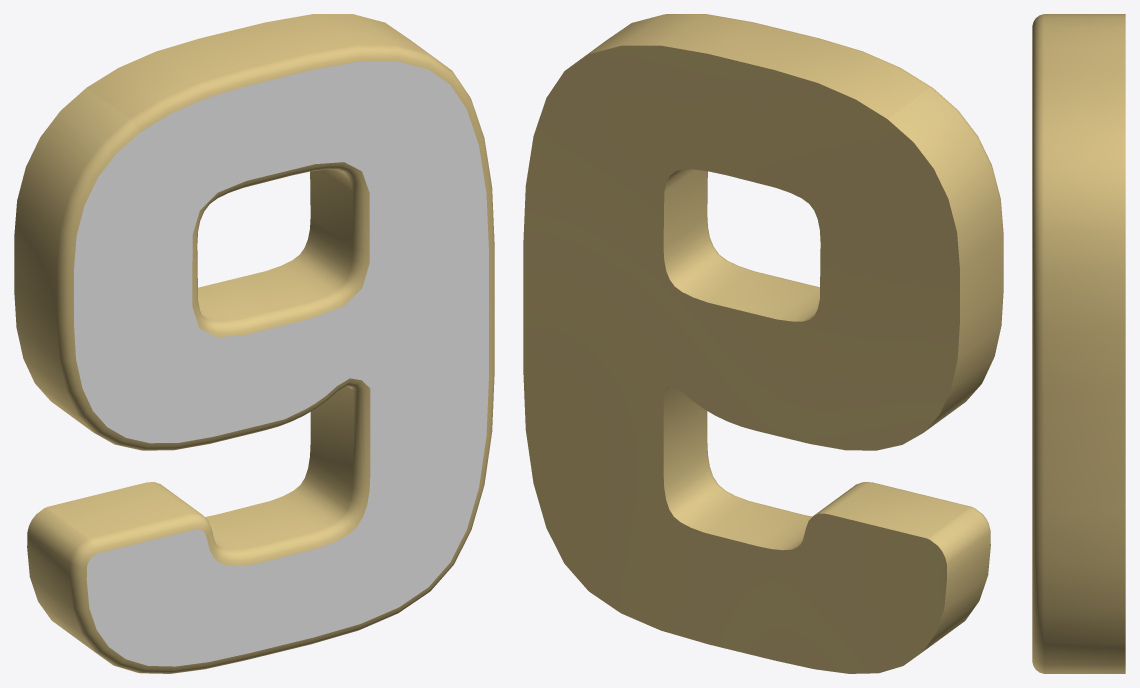
The model's file is LettersLightUp02_9.FBX.
3 views of the same model, side by side, from view 1: azimuth 30°, elevation 25°; view 2: azimuth 150°, elevation 25°; view 3: azimuth 270°, elevation 25° (orthographic). The views are drawn at different scales.
Visible parts, largest first — view 1: LettersLightUp02_9; view 2: LettersLightUp02_9; view 3: LettersLightUp02_9.
Part boxes in pixels (left/top/right/bottom): LettersLightUp02_9: left=14, top=14, right=494, bottom=673; LettersLightUp02_9: left=523, top=14, right=1003, bottom=673; LettersLightUp02_9: left=1032, top=14, right=1125, bottom=673.
Size of what is drawn, in the model's own units: 0.4707 by 0.608 by 0.0912.
